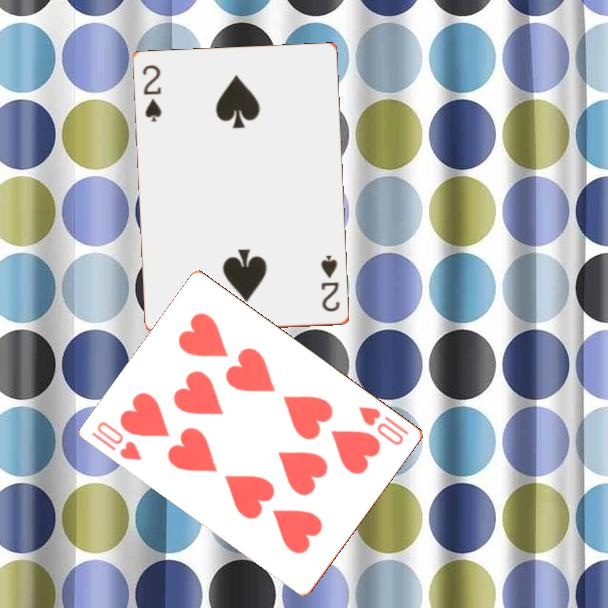h10: (355, 403, 412, 448), (88, 418, 145, 463)
s02: (139, 61, 165, 125), (318, 252, 343, 315)
